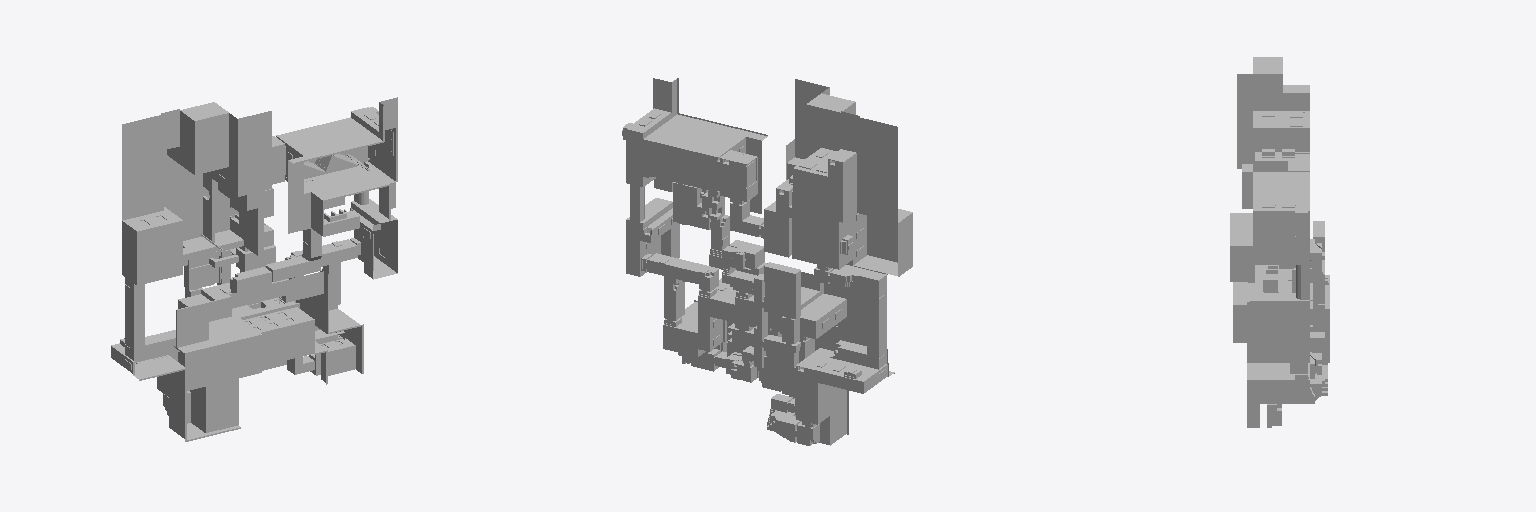
File: Back Alley.obj
3 views of the same model, side by side, from view 1: azimuth 30°, elevation 25°; view 2: azimuth 150°, elevation 25°; view 3: azimuth 270°, elevation 25° (orthographic).
Parts seen in each view (by area): view 1: BSP_Object.model_0; view 2: BSP_Object.model_0; view 3: BSP_Object.model_0.
Part boxes in pixels (x1,y1,x2,y2): BSP_Object.model_0: (111,97,397,441); BSP_Object.model_0: (622,78,912,445); BSP_Object.model_0: (1230,57,1329,427).
Bounding box in the file's own units: 73.4 × 87.2 × 24.